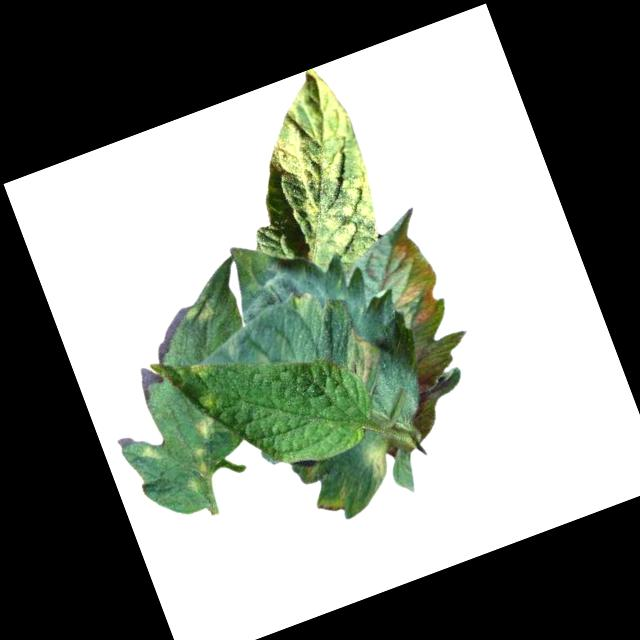Leaf_Mold: (243, 62, 393, 264), (366, 222, 450, 333), (170, 415, 237, 495), (330, 324, 384, 392), (355, 434, 396, 481), (178, 296, 219, 330), (315, 489, 351, 519), (285, 287, 314, 316), (185, 356, 212, 379), (137, 441, 158, 462)
